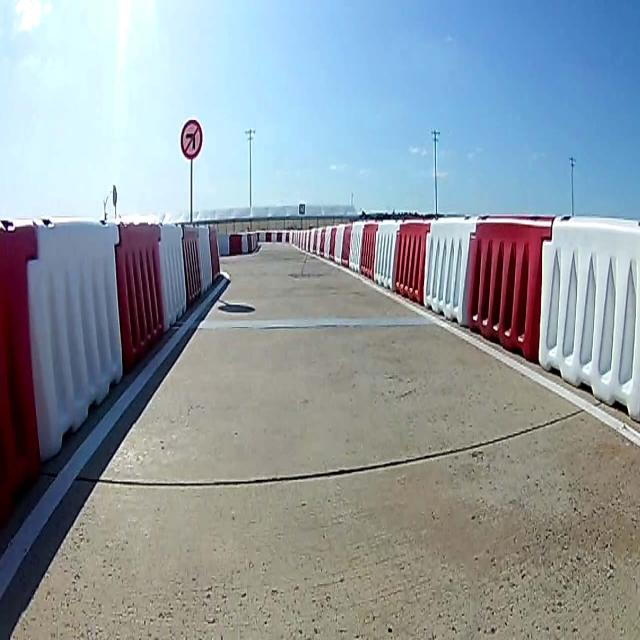soladonulmez: (180, 118, 202, 158)
